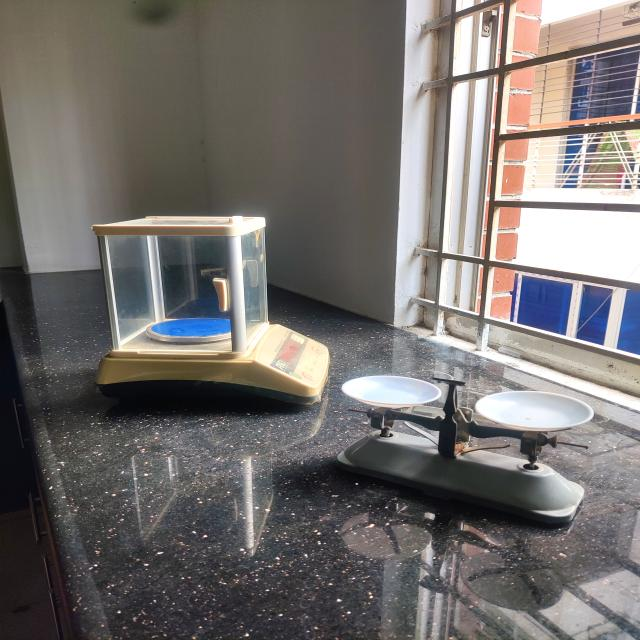Mechanical_Balance_Scale: (331, 342, 614, 548)
Precision_Weight_Scale: (64, 184, 343, 427)
